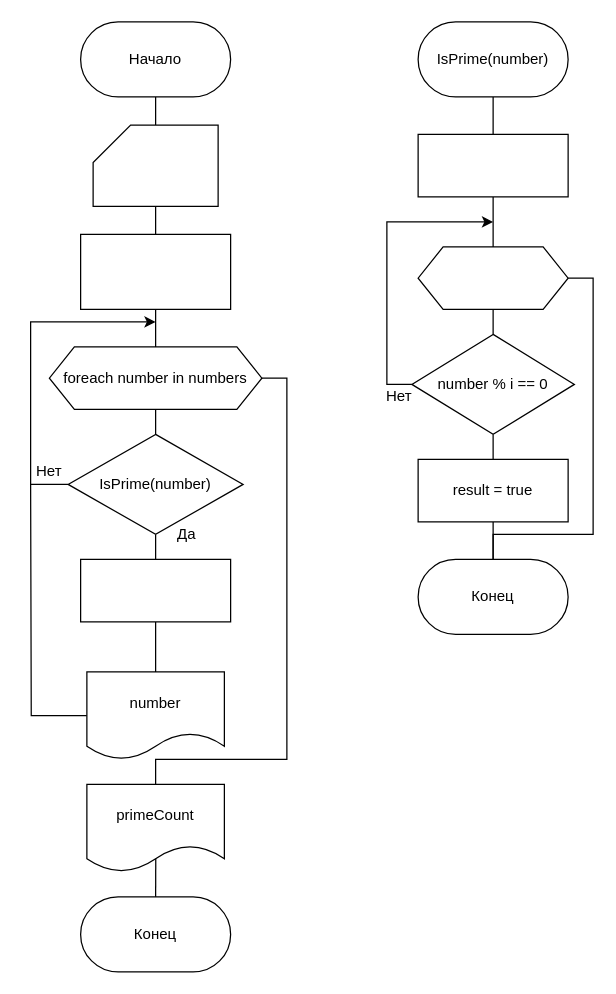
The diagram is 616 pixels wide and 994 high, and some of its shapes have lost their labels. The shapes that lost their labels are listed below. From the top down, each one's box as (x1, y1, x2, y2) in pixels, then its label:
(92, 124, 218, 206): numbers
(417, 133, 568, 197): result = false
(79, 233, 231, 309): primeCount = 0
(417, 246, 568, 309): i = 2; i * i < number
(79, 558, 231, 622): ++primeCount
